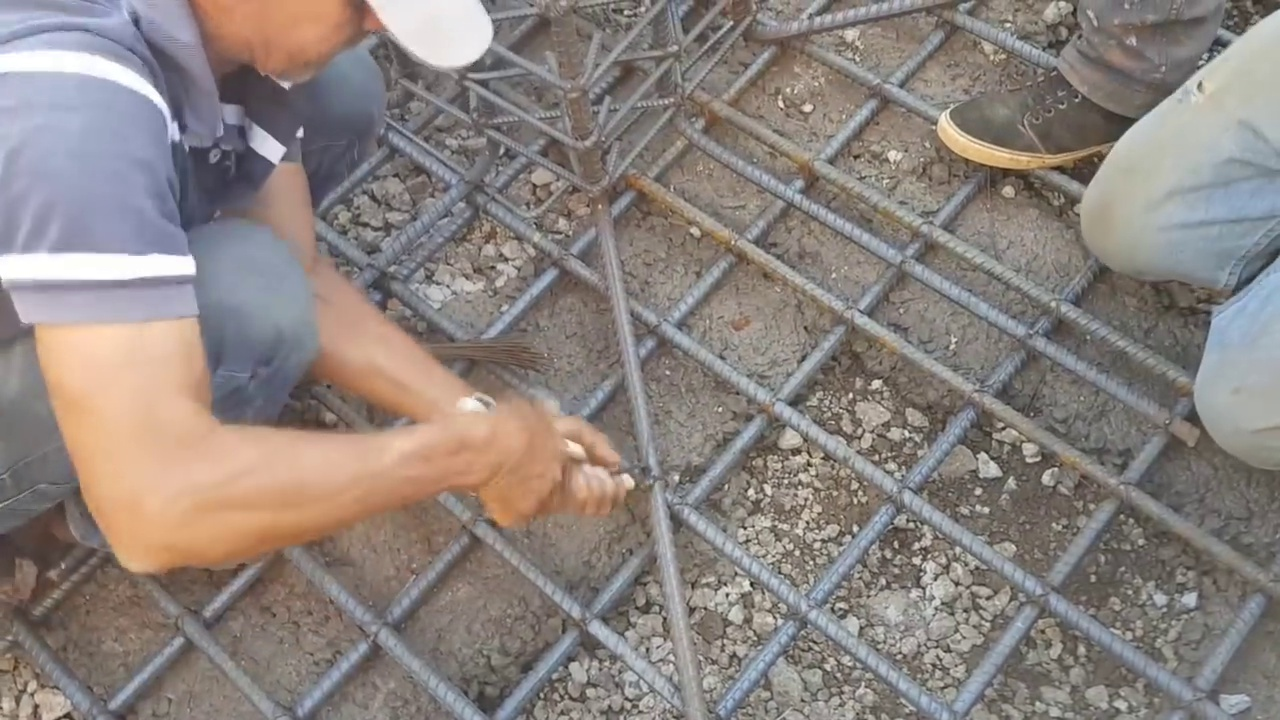helmet-off: (138, 0, 491, 102)
person: (0, 1, 656, 639), (1029, 0, 1280, 441)
